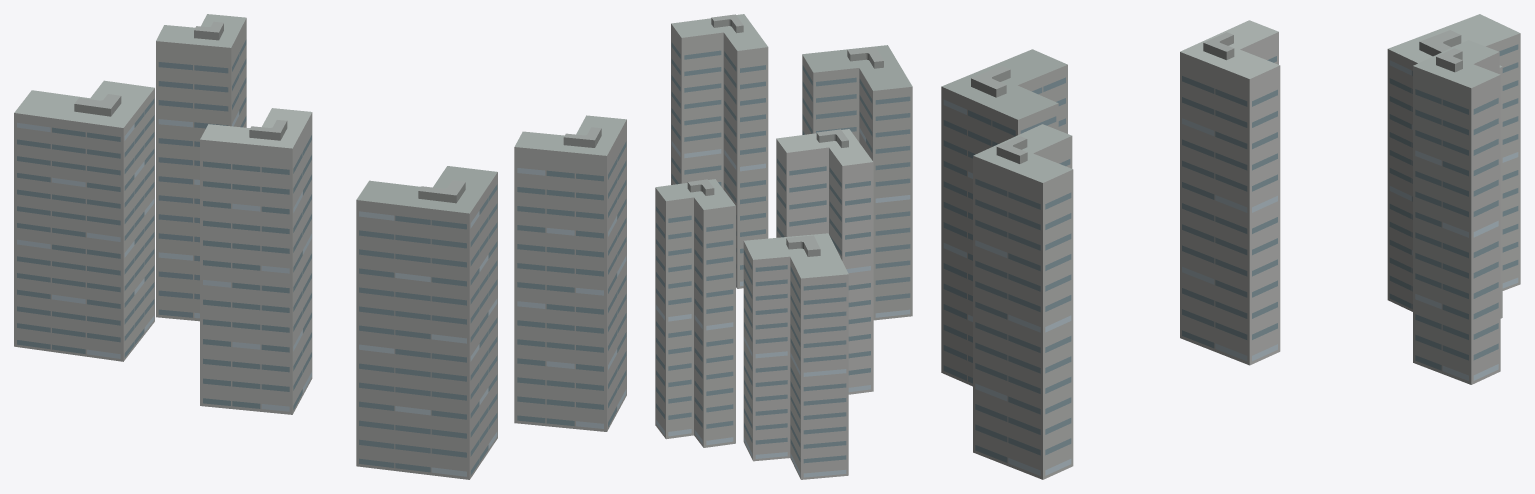
File: apt-a13776510.glb
3 views of the same model, side by side, from view 1: azimuth 30°, elevation 25°; view 2: azimuth 150°, elevation 25°; view 3: azimuth 270°, elevation 25° (orthographic). The views are drawn at different scales.
Visible parts, largest first — view 1: apt-a13776510; view 2: apt-a13776510; view 3: apt-a13776510.
Boxes of the visible parts, <box> form: apt-a13776510: <box>14,14,626,479</box>; apt-a13776510: <box>655,14,912,479</box>; apt-a13776510: <box>941,14,1520,479</box>.
Size of the model in its own units: 131 by 87 by 150.
